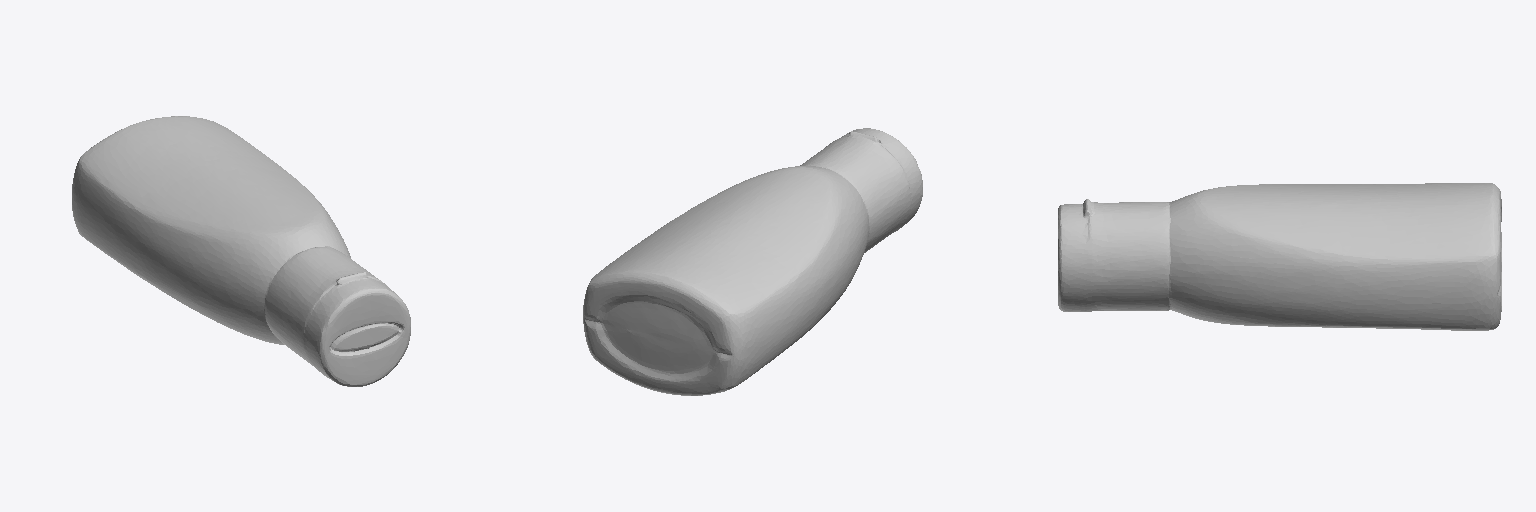
File: bbq_sauce_rescale.obj
3 views of the same model, side by side, from view 1: azimuth 30°, elevation 25°; view 2: azimuth 150°, elevation 25°; view 3: azimuth 270°, elevation 25° (orthographic).
Visible parts, largest first — view 1: bbq_sauce; view 2: bbq_sauce; view 3: bbq_sauce.
Part boxes in pixels (x1,y1,x2,y2): bbq_sauce: (72,116,410,386); bbq_sauce: (583,128,922,395); bbq_sauce: (1058,183,1501,330).
Size of the model in its own units: 0.0498 by 0.0335 by 0.1142.